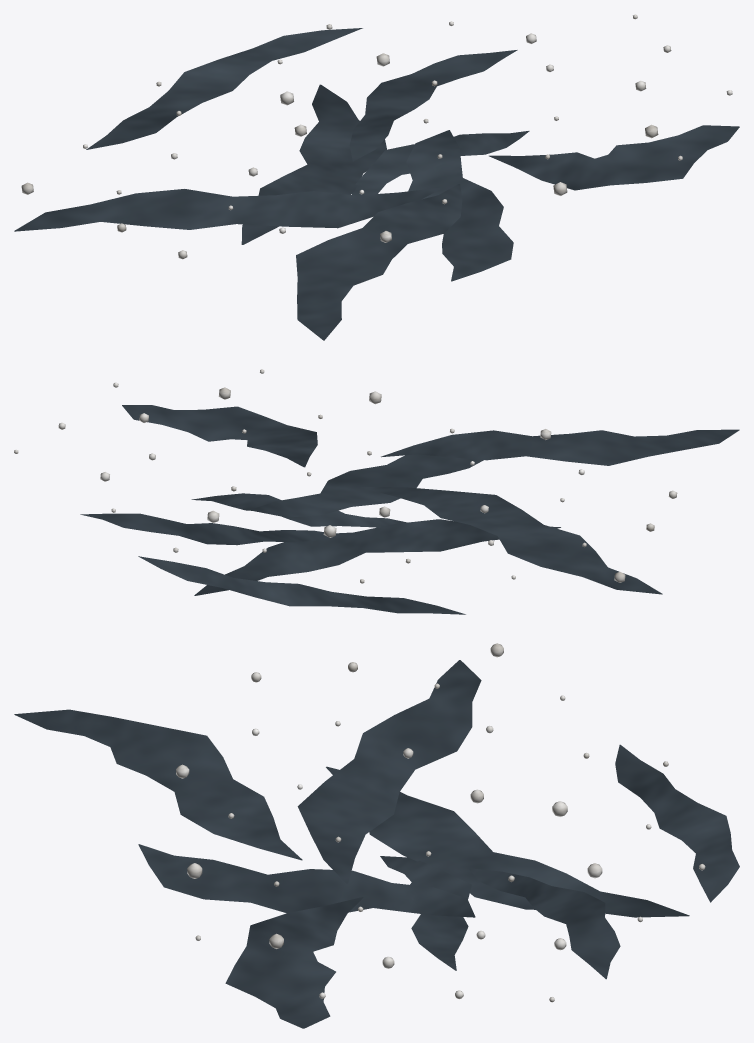
File: dwarf_galaxy.glb
The picture shows the model from 3 angles, top to bottom: view 1: azimuth 30°, elevation 25°; view 2: azimuth 150°, elevation 25°; view 3: azimuth 270°, elevation 25°; orthographic projection. The views are drawn at different scales.
Visible parts, largest first — view 1: dwarf_galaxy_textured_mesh; view 2: dwarf_galaxy_textured_mesh; view 3: dwarf_galaxy_textured_mesh.
Part boxes in pixels (x1,y1,x2,y2): dwarf_galaxy_textured_mesh: (14,14,739,340); dwarf_galaxy_textured_mesh: (14,369,739,614); dwarf_galaxy_textured_mesh: (14,643,739,1028).
Bounding box in the file's own units: 2.22 × 0.1838 × 1.86.
Materials: 1 (1 with a texture image).
